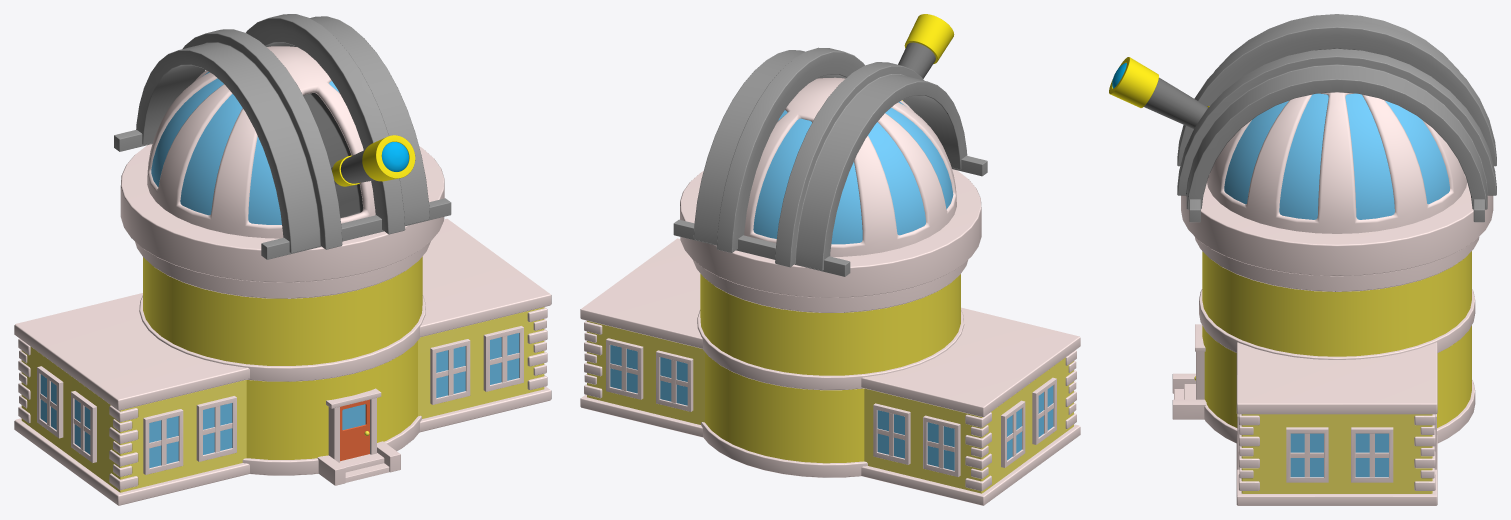
Rendered from Public_17_Observatory_1.glb.
The picture shows the model from 3 angles, left to right: view 1: azimuth 30°, elevation 25°; view 2: azimuth 150°, elevation 25°; view 3: azimuth 270°, elevation 25°; orthographic projection. The views are drawn at different scales.
Visible parts, largest first — view 1: Public_17_Observatory_1; view 2: Public_17_Observatory_1; view 3: Public_17_Observatory_1.
Boxes of the visible parts, <box> form: Public_17_Observatory_1: <box>14,14,551,505</box>; Public_17_Observatory_1: <box>580,14,1080,505</box>; Public_17_Observatory_1: <box>1109,14,1496,505</box>.
Size of the model in its own units: 17.84 by 14.95 by 14.34.
Materials: 1 (1 with a texture image).
